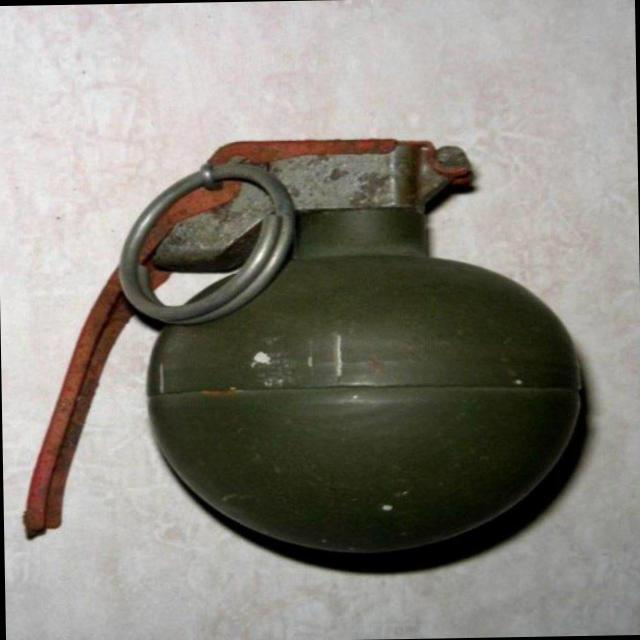grenade: (24, 120, 580, 554)
